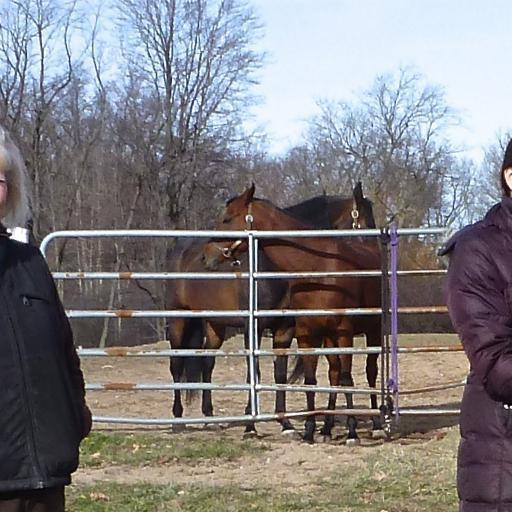horse: (162, 177, 382, 433), (190, 182, 388, 455)
